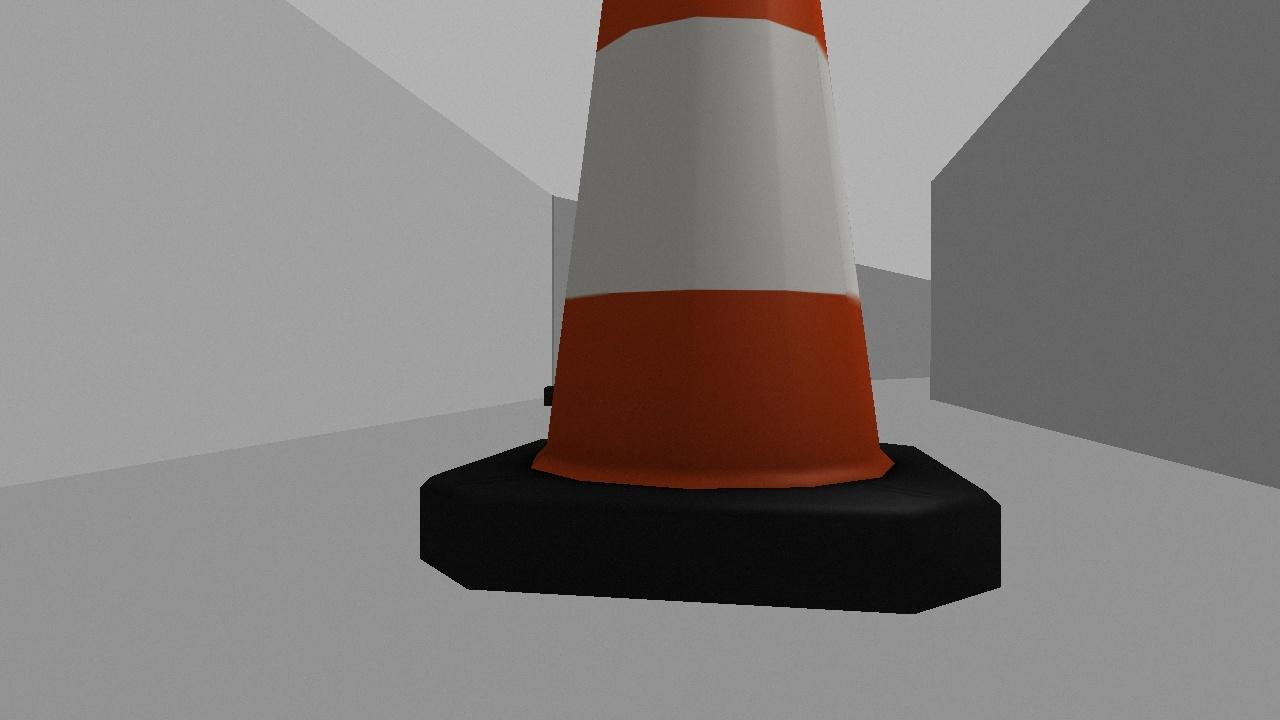cone_barrel: (417, 0, 1002, 616)
